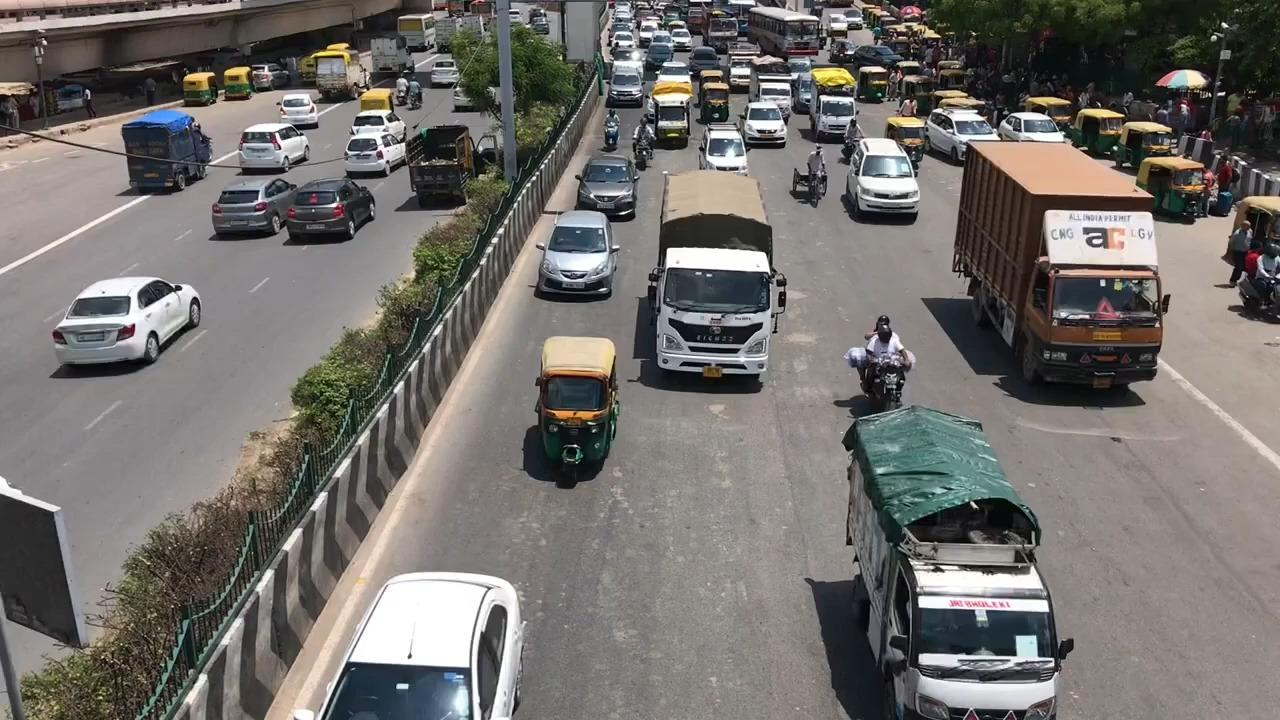Auto: (533, 334, 620, 474), (182, 71, 218, 106), (222, 65, 255, 100)
Bike: (860, 309, 912, 408), (1236, 239, 1279, 315), (631, 114, 658, 169), (841, 116, 864, 164), (602, 105, 622, 150)
Bus: (746, 6, 822, 57)
Car: (290, 570, 525, 719), (44, 268, 206, 370), (534, 209, 620, 297), (286, 174, 378, 238), (212, 172, 292, 238), (574, 153, 640, 218), (232, 124, 312, 176), (278, 88, 320, 130)
Truck: (842, 404, 1074, 719), (950, 139, 1170, 391), (655, 170, 777, 386), (120, 109, 213, 194), (404, 123, 476, 206), (312, 42, 370, 101)
